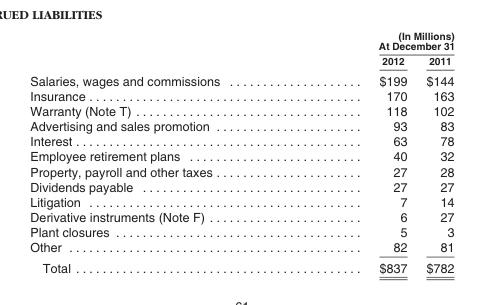table: (29, 29, 454, 274)
table column: (29, 29, 298, 274), (298, 29, 416, 274), (416, 29, 454, 274)
table column header: (29, 29, 454, 69)
table row: (29, 29, 454, 53), (29, 69, 454, 87), (29, 256, 454, 274), (29, 239, 454, 256), (29, 53, 454, 69), (29, 102, 454, 118), (29, 208, 454, 224), (29, 87, 454, 102), (29, 118, 454, 133), (29, 133, 454, 148), (29, 148, 454, 163), (29, 163, 454, 178), (29, 178, 454, 193), (29, 193, 454, 208), (29, 224, 454, 239)
table spanning cell: (298, 29, 454, 53)
